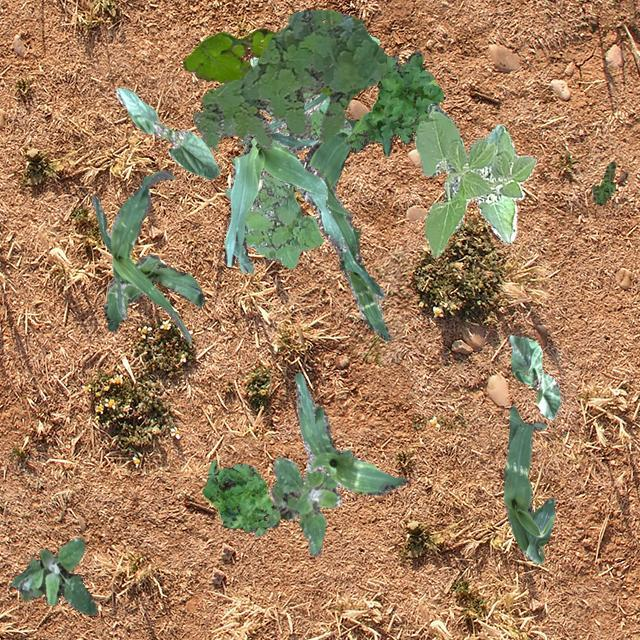crop: (224, 91, 346, 272), (304, 118, 389, 340), (414, 102, 536, 255), (90, 168, 190, 340), (294, 372, 406, 494), (114, 88, 218, 178), (502, 404, 554, 562), (102, 253, 204, 330), (508, 334, 560, 418)
weed: (224, 34, 378, 268), (192, 9, 386, 150), (344, 50, 442, 154), (182, 27, 330, 94), (266, 448, 352, 556), (10, 536, 96, 614), (202, 458, 272, 536), (592, 160, 614, 204)
